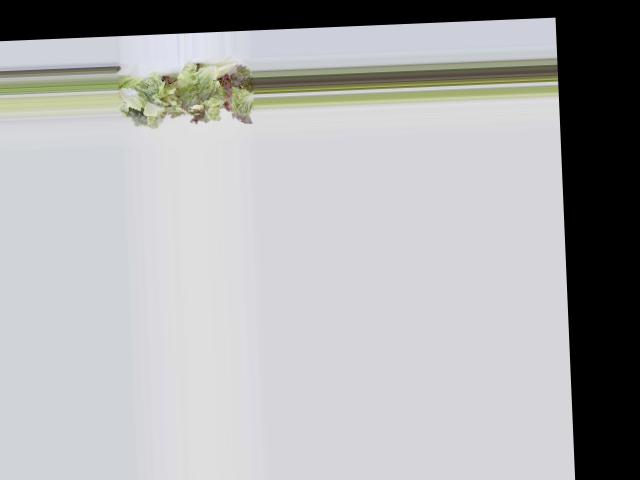lettuce: (124, 68, 250, 124)
